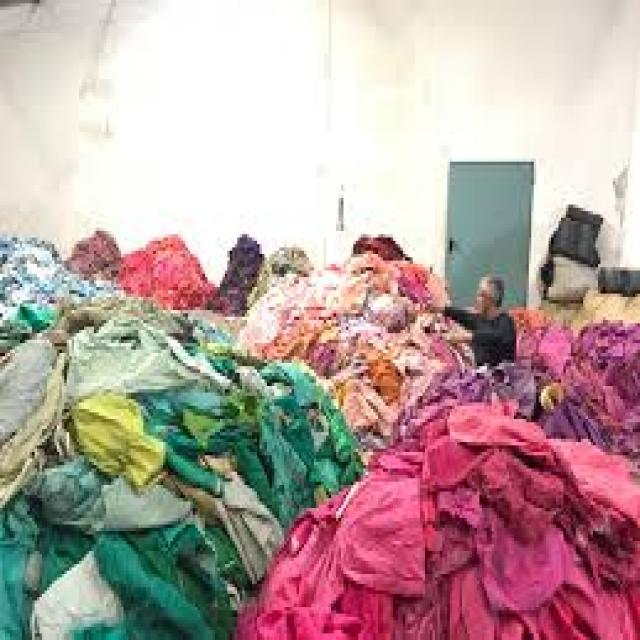Clothes -Biodegradable-: (0, 211, 640, 640)
